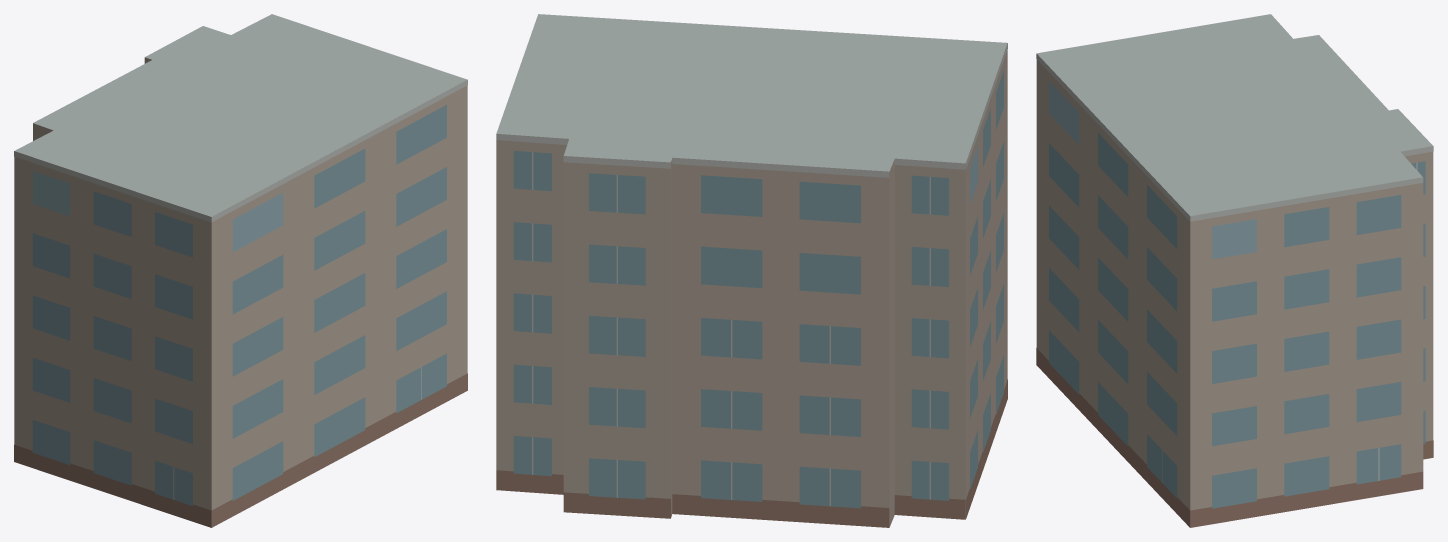
The model's file is survey-upis-32480167.glb.
3 views of the same model, side by side, from view 1: azimuth 30°, elevation 25°; view 2: azimuth 150°, elevation 25°; view 3: azimuth 270°, elevation 25° (orthographic). The views are drawn at different scales.
Parts seen in each view (by area): view 1: survey-upis-32480167.tmp; view 2: survey-upis-32480167.tmp; view 3: survey-upis-32480167.tmp.
Boxes of the visible parts, x1=… form: survey-upis-32480167.tmp: x1=14, y1=14, x2=467, y2=527; survey-upis-32480167.tmp: x1=496, y1=14, x2=1007, y2=527; survey-upis-32480167.tmp: x1=1036, y1=14, x2=1433, y2=527.
Bounding box in the file's own units: 19.21 × 13.8 × 15.94.
